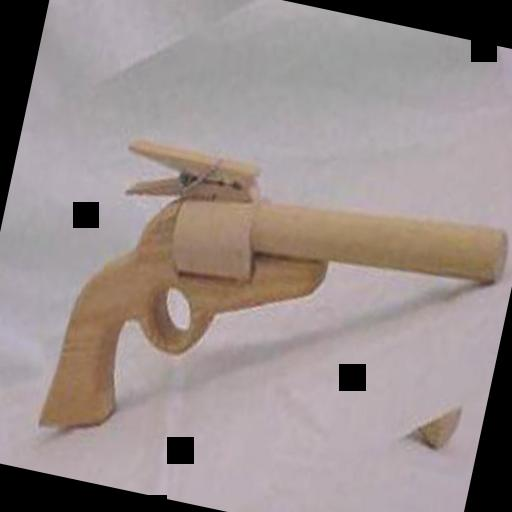Handgun: (24, 114, 512, 508)
